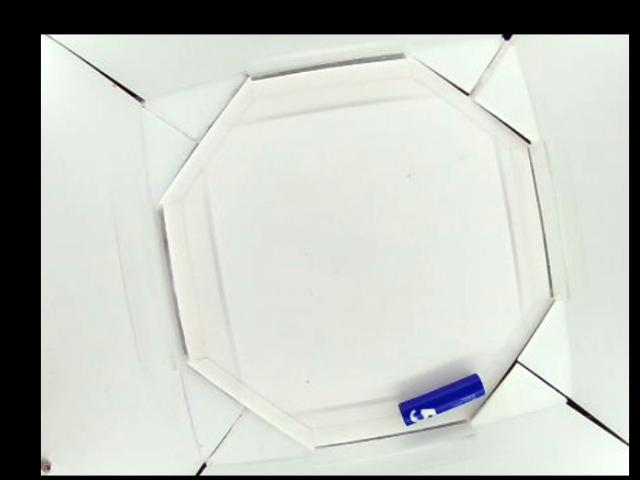Battery: (398, 371, 485, 425)
